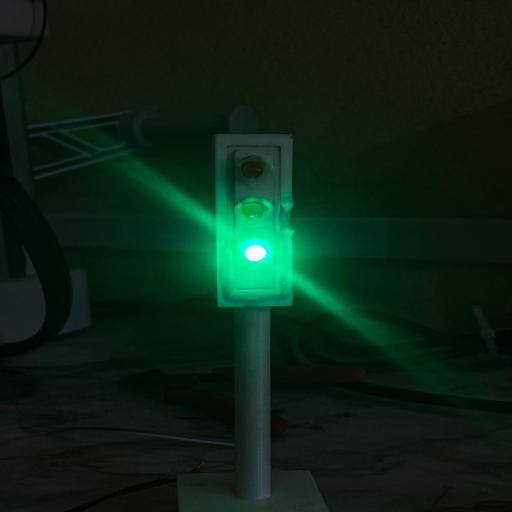Green Light: (245, 245, 266, 261)
